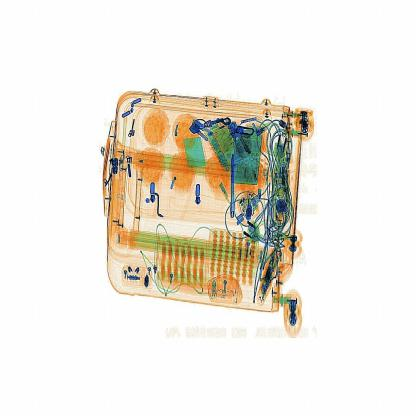pliers: (229, 152, 242, 224)
